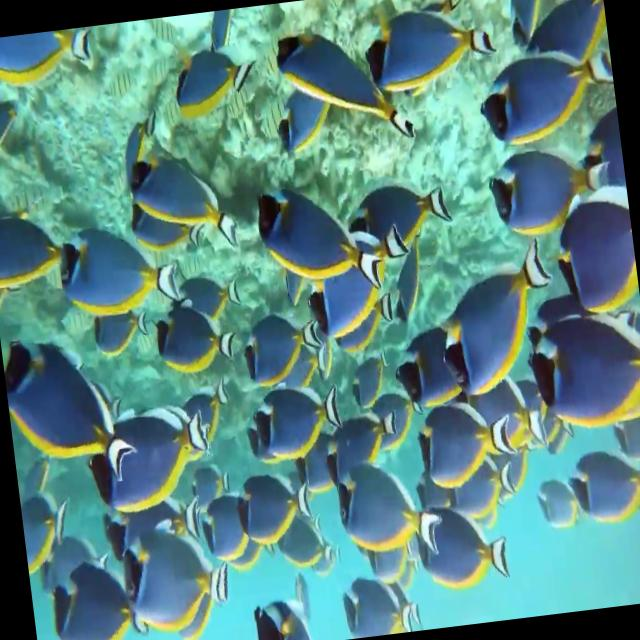fish: (0, 314, 141, 492), (270, 9, 427, 158), (431, 237, 565, 401), (246, 175, 394, 322), (74, 392, 218, 524), (471, 44, 622, 167), (54, 212, 186, 339), (519, 302, 640, 439), (115, 514, 242, 640), (363, 0, 500, 111), (541, 169, 640, 320), (330, 444, 444, 570), (119, 138, 236, 260), (481, 136, 608, 243), (410, 484, 520, 596), (42, 533, 154, 640), (357, 168, 463, 276), (410, 388, 516, 493), (300, 245, 410, 344), (222, 461, 320, 553), (166, 43, 270, 128), (559, 437, 640, 541), (0, 25, 107, 103), (142, 301, 242, 382), (0, 204, 73, 307), (264, 90, 354, 170), (19, 486, 75, 584), (173, 375, 238, 459), (337, 574, 415, 640), (198, 476, 254, 566), (343, 339, 394, 417), (276, 514, 338, 576), (529, 472, 582, 544), (504, 0, 561, 59), (249, 594, 318, 640), (0, 87, 36, 167)
